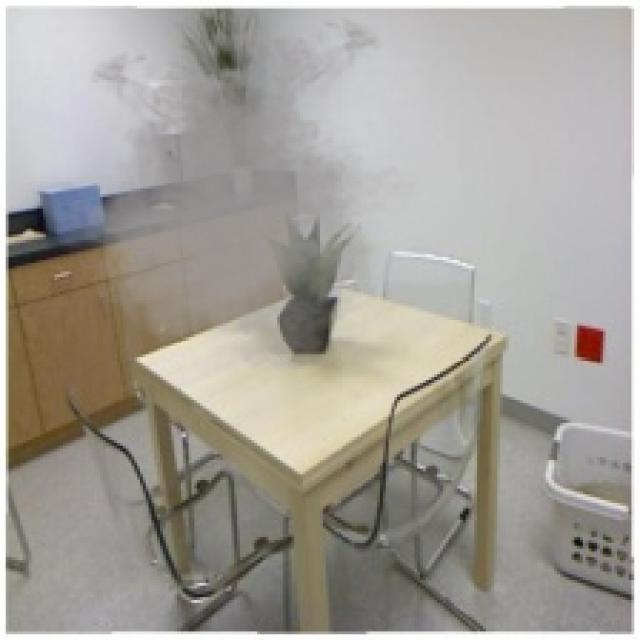smoke: (28, 6, 443, 380)
